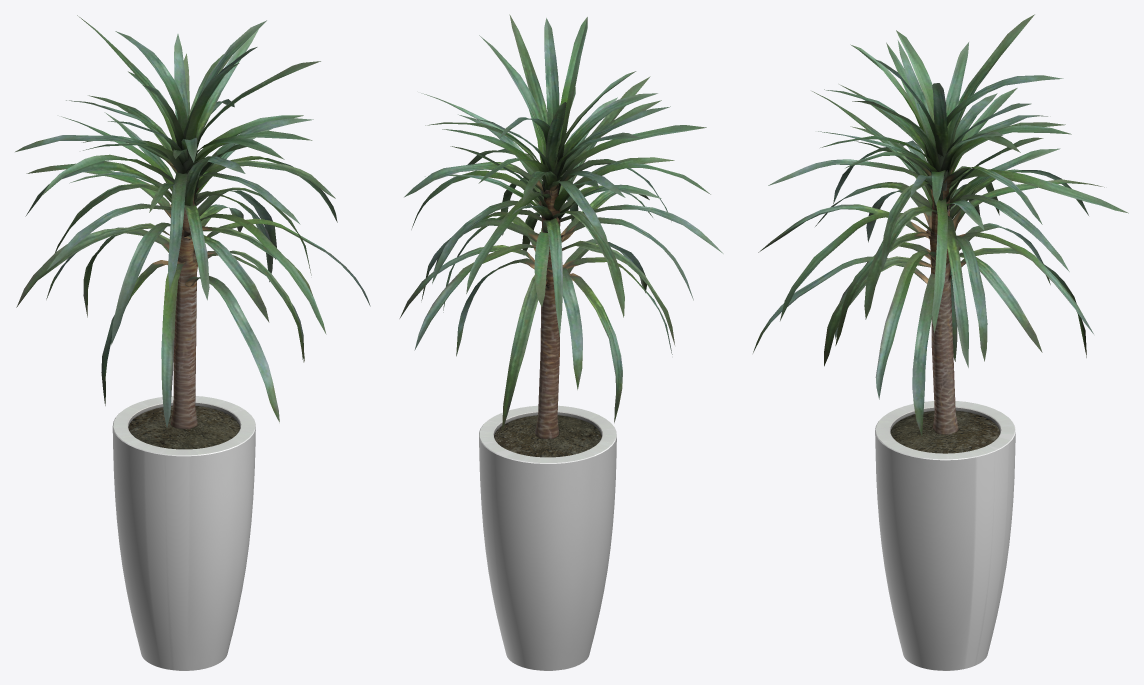
The picture shows the model from 3 angles, left to right: view 1: azimuth 30°, elevation 25°; view 2: azimuth 150°, elevation 25°; view 3: azimuth 270°, elevation 25°; orthographic projection. The views are drawn at different scales.
Visible parts, largest first — view 1: Others_raw_model.029; view 2: Others_raw_model.029; view 3: Others_raw_model.029.
Part boxes in pixels (box(x1,y1,x2,y2)): Others_raw_model.029: box(15, 15, 370, 670); Others_raw_model.029: box(399, 14, 723, 670); Others_raw_model.029: box(753, 14, 1128, 670).
Bounding box in the file's own units: 1.01 × 1.92 × 1.07.
Materials: 1 (1 with a texture image).
